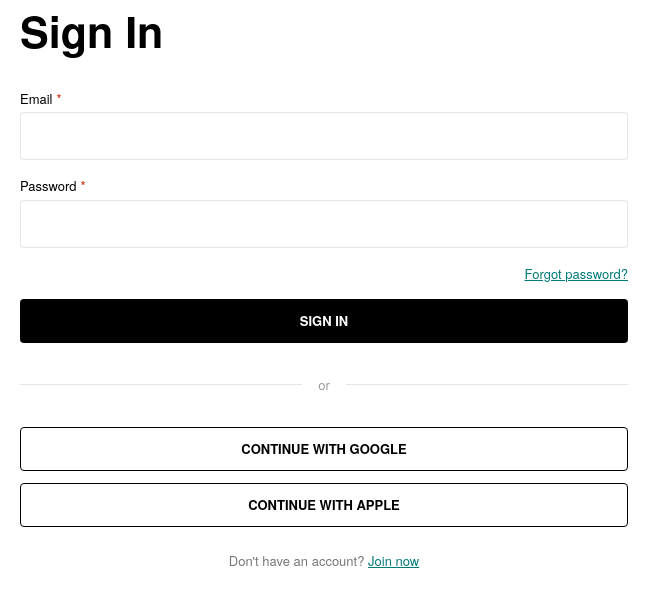
LoginPage › shows validation error for empty password
Type "jane@example.com" into the field labelled "Email*" at (324, 136), box [20,112,628,160]
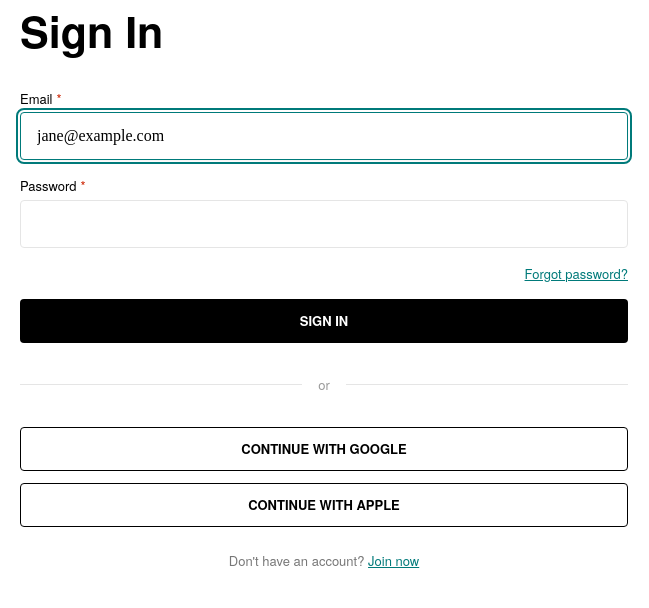
Click the button "Sign In" at (324, 321), box [20,299,628,343]
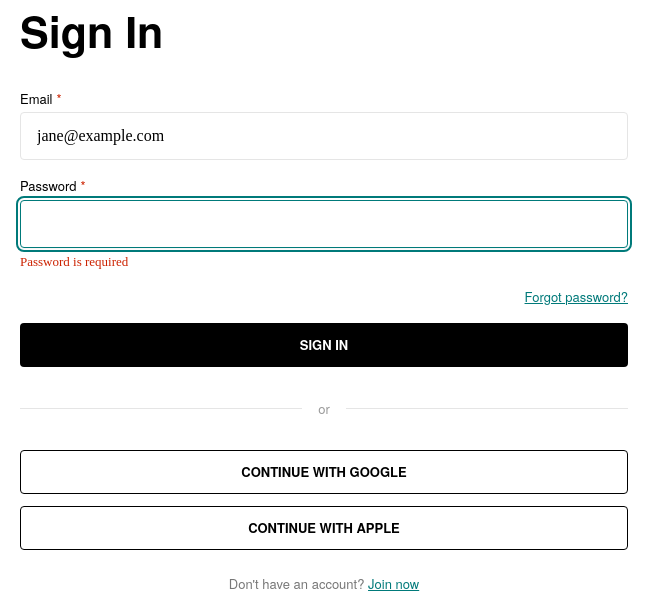
Now the text "Password is required" is shown, box [20,254,128,269]
